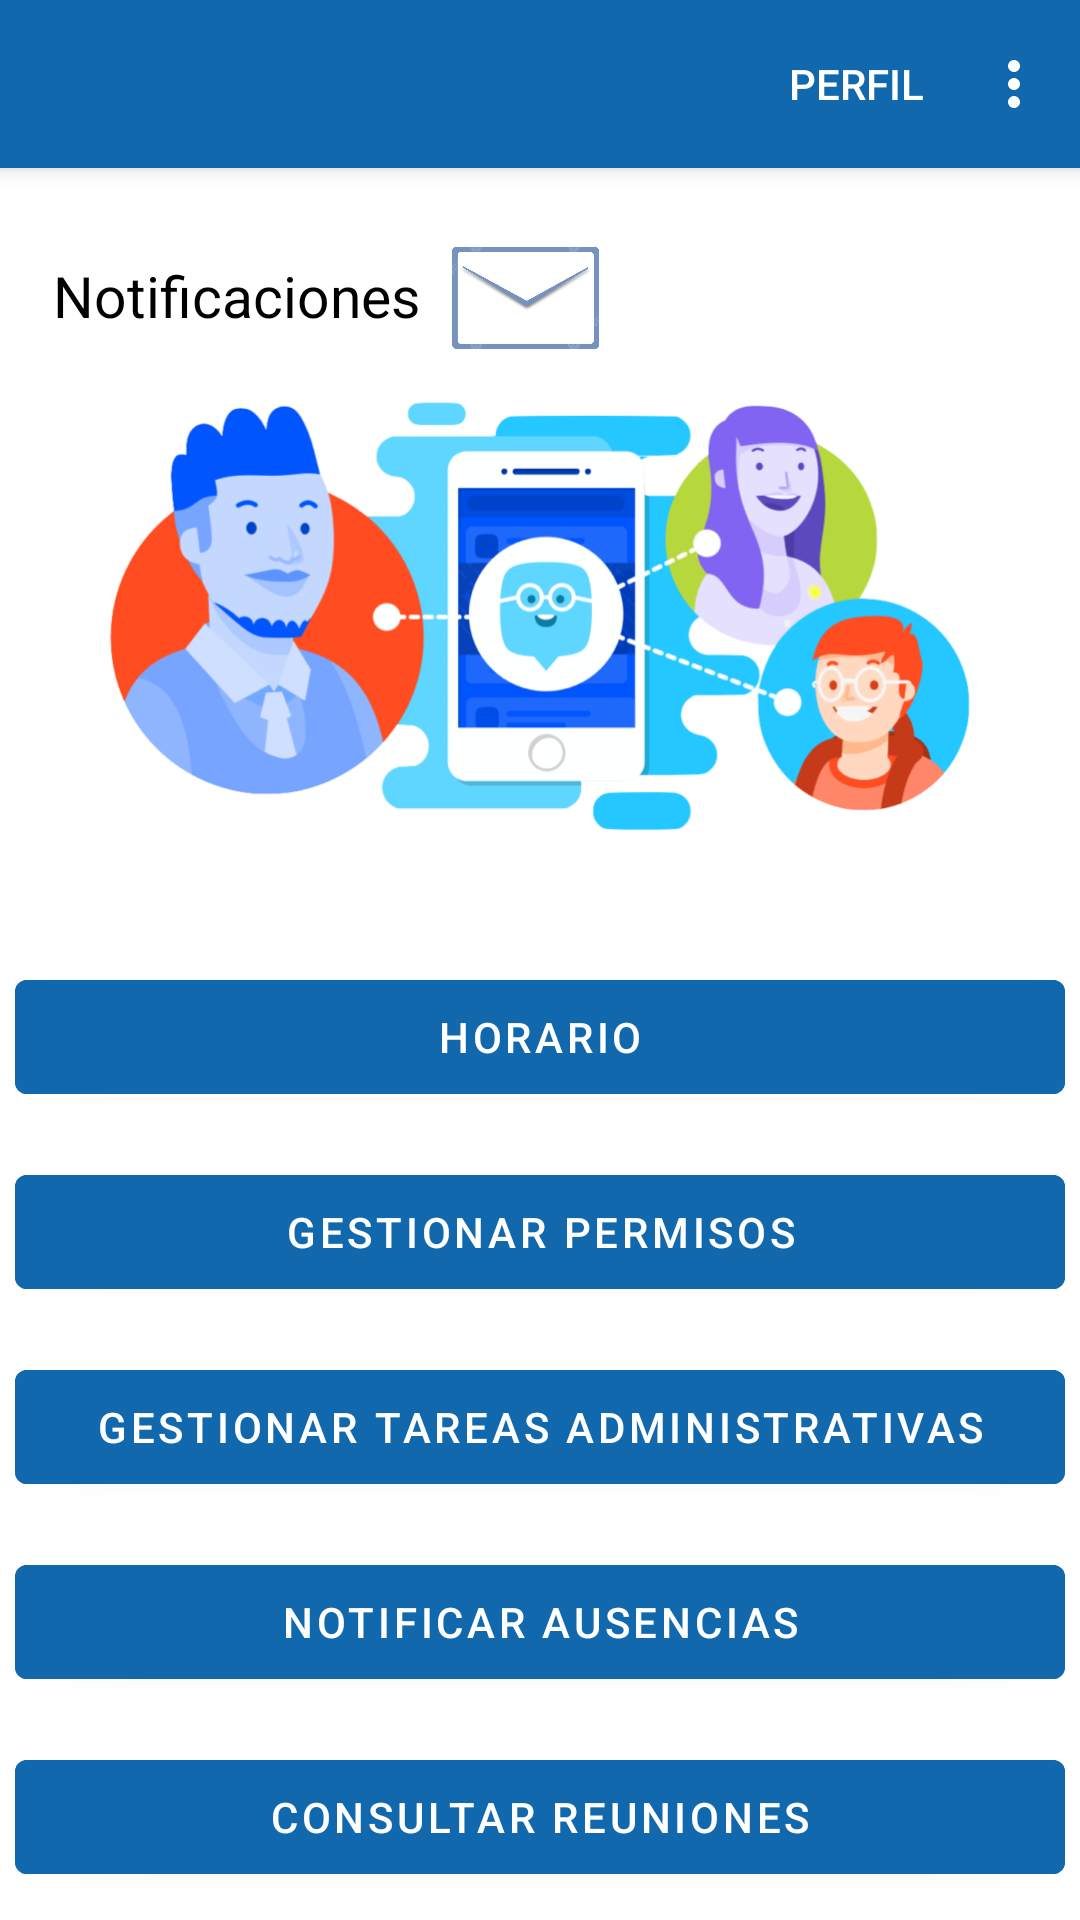

Locate icon controls on the screen. Image size 1080*1920, boxes as [left=x1, top=y1, right=x2, bottom=y2].
mail: [left=452, top=247, right=599, bottom=349]
